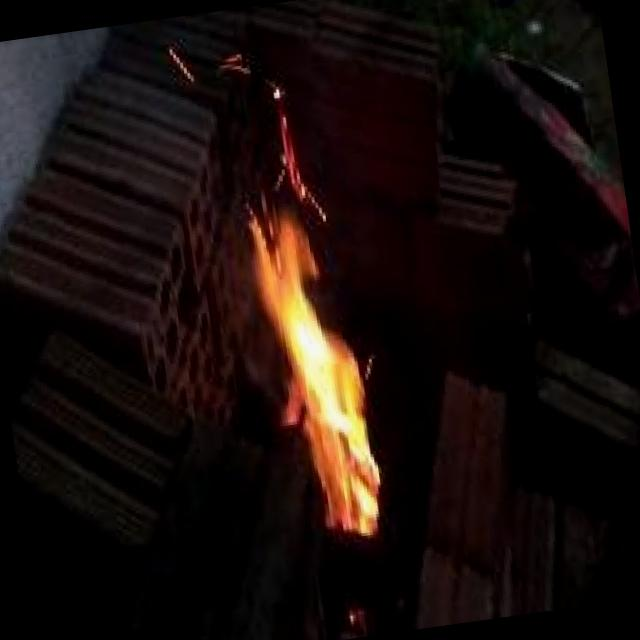fire: (194, 88, 432, 594)
